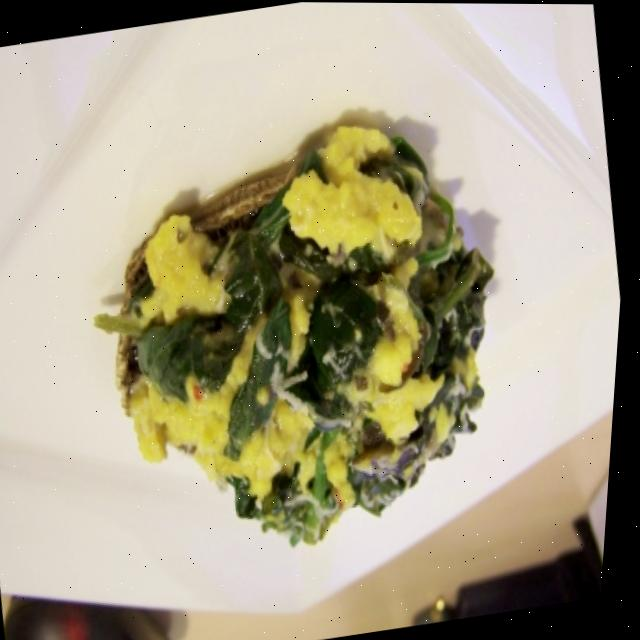鸡蛋料理: (46, 64, 558, 585)
